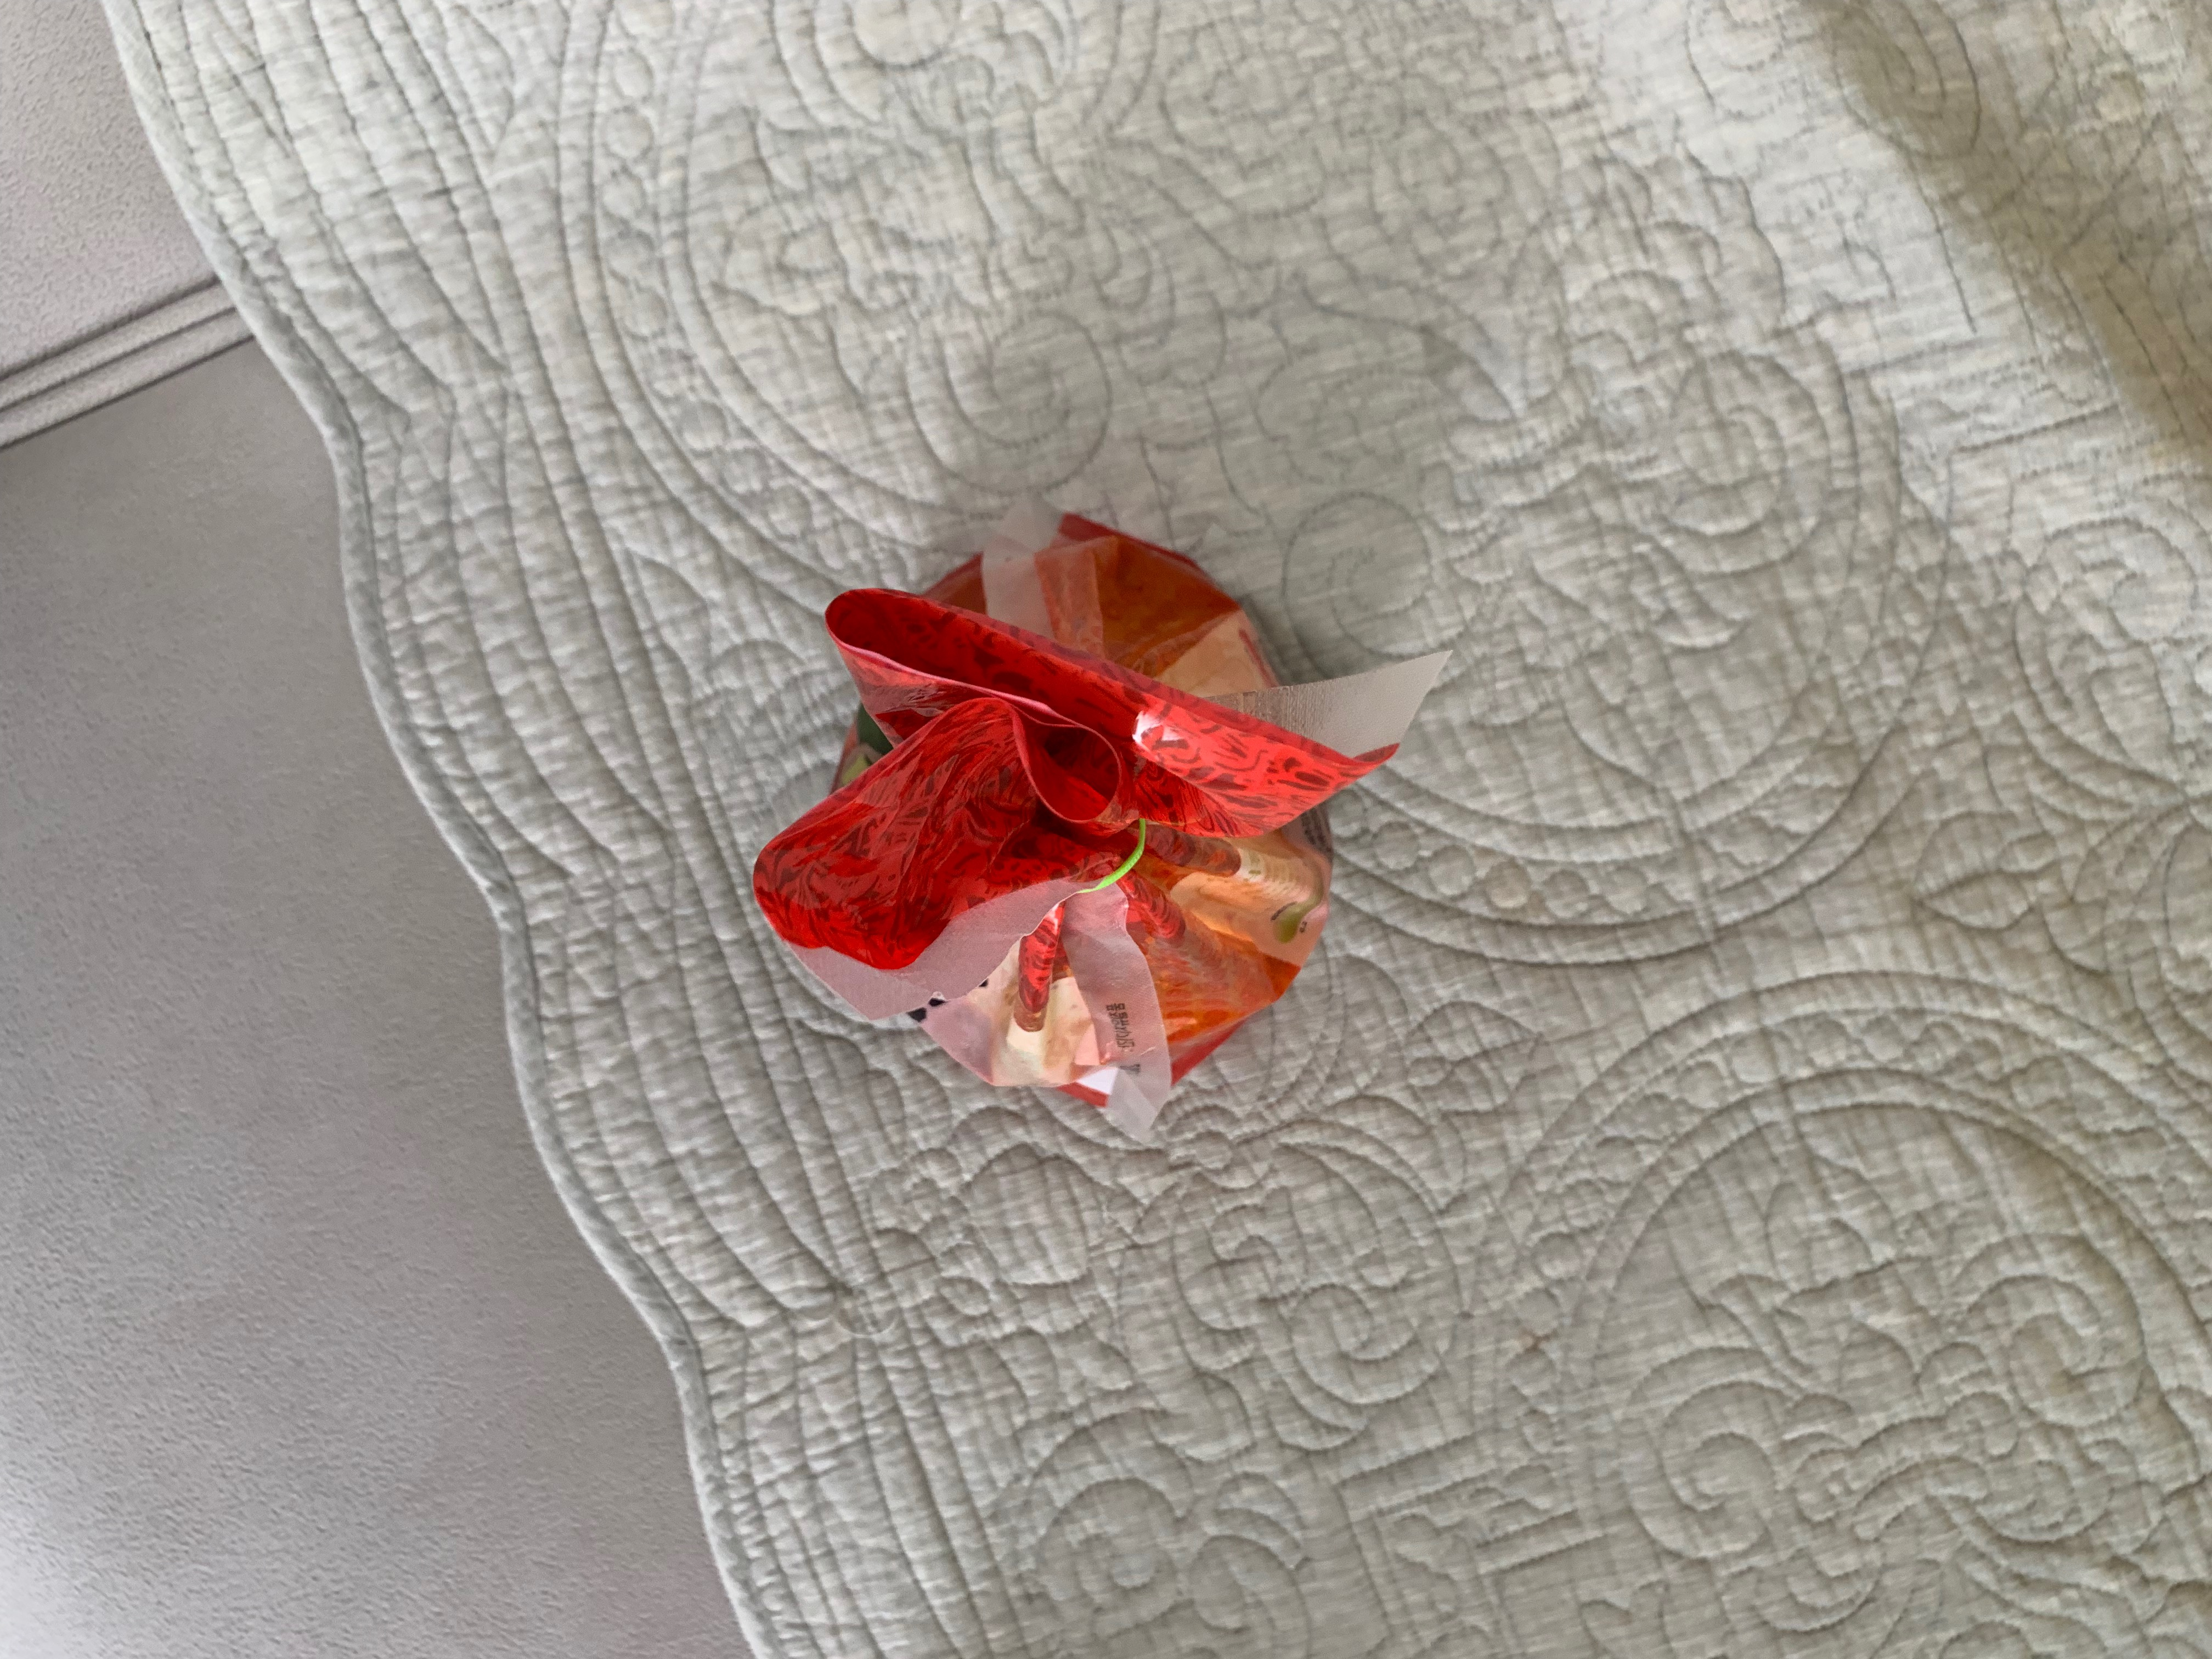kimchi: (758, 514, 1339, 1098)
